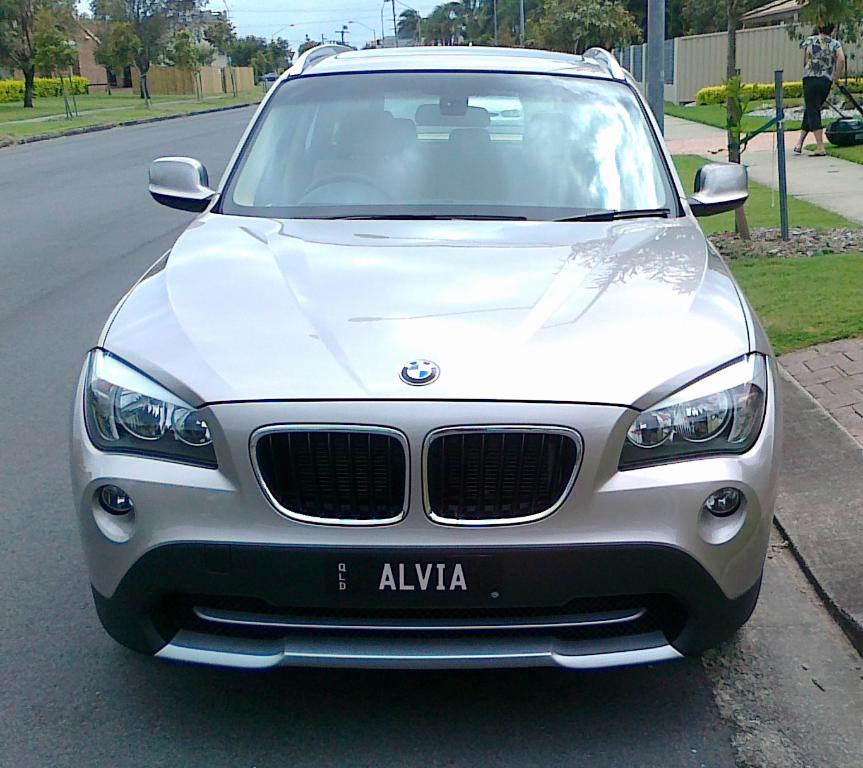Tree: (0, 0, 862, 108)
